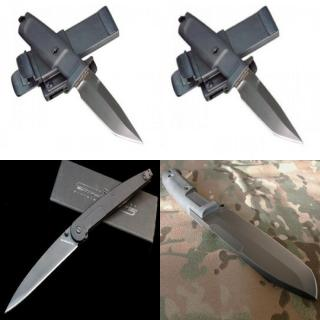knife: (194, 198, 320, 306), (3, 224, 78, 316), (71, 64, 145, 144), (231, 64, 305, 144)
